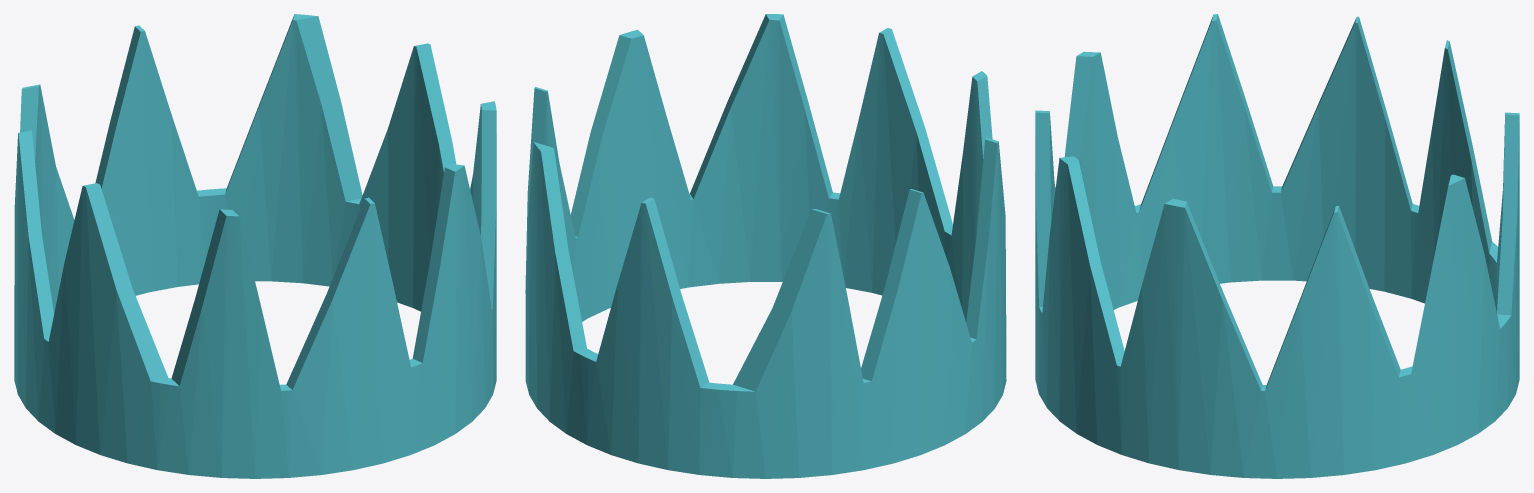
The model's file is party-hat02.dae.
3 renders of one model, left to right at view 1: azimuth 30°, elevation 25°; view 2: azimuth 150°, elevation 25°; view 3: azimuth 270°, elevation 25°, orthographic.
Visible parts, largest first — view 1: Phat; view 2: Phat; view 3: Phat.
Part boxes in pixels (box(x1,y1,x2,y2)): Phat: box(14, 14, 496, 478); Phat: box(525, 14, 1006, 478); Phat: box(1035, 14, 1519, 478).
Size of the model in its own units: 11.04 by 11.04 by 6.62.
